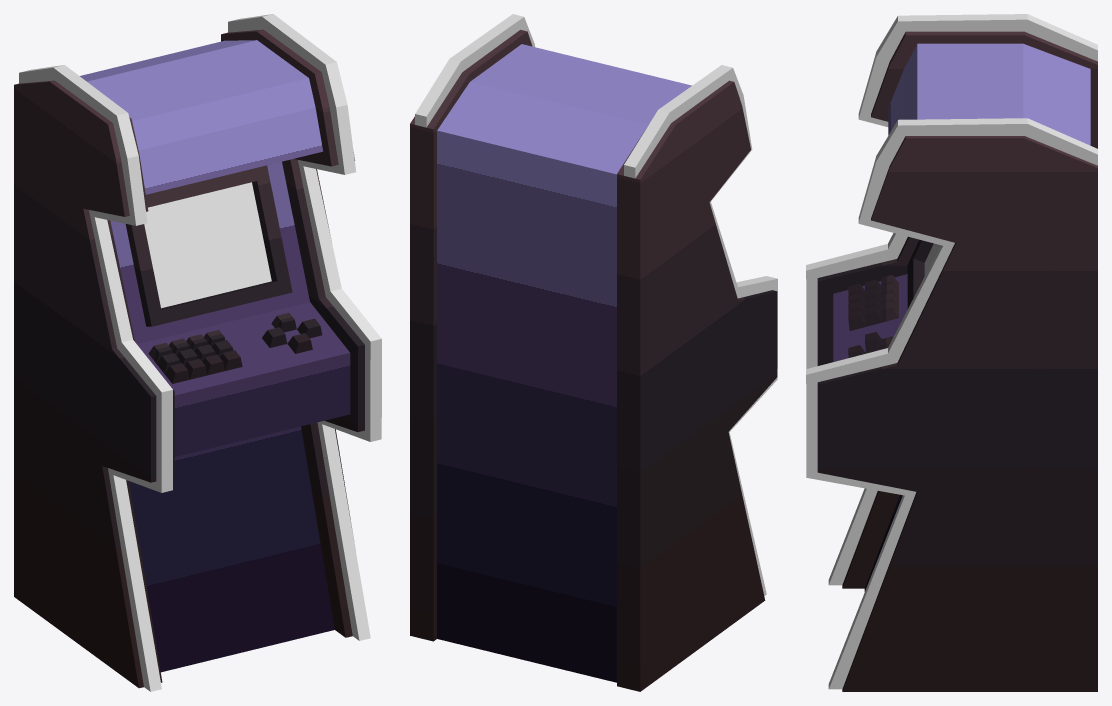
3 renders of one model, left to right at view 1: azimuth 30°, elevation 25°; view 2: azimuth 150°, elevation 25°; view 3: azimuth 270°, elevation 25°, orthographic. The views are drawn at different scales.
Visible parts, largest first — view 1: Plane.002, gl_1.003, gl_2.003; view 2: Plane.002, gl_1.003; view 3: Plane.002, gl_1.003.
Part boxes in pixels (x1=…): Plane.002: x1=14, y1=29, x2=364, y2=688; gl_1.003: x1=19, y1=14, x2=381, y2=691; gl_2.003: x1=144, y1=182, x2=271, y2=308; Plane.002: x1=410, y1=29, x2=777, y2=691; gl_1.003: x1=415, y1=14, x2=777, y2=595; Plane.002: x1=817, y1=31, x2=1097, y2=691; gl_1.003: x1=806, y1=14, x2=1097, y2=689.
Bounding box in the file's own units: 458 × 1050 × 491.
